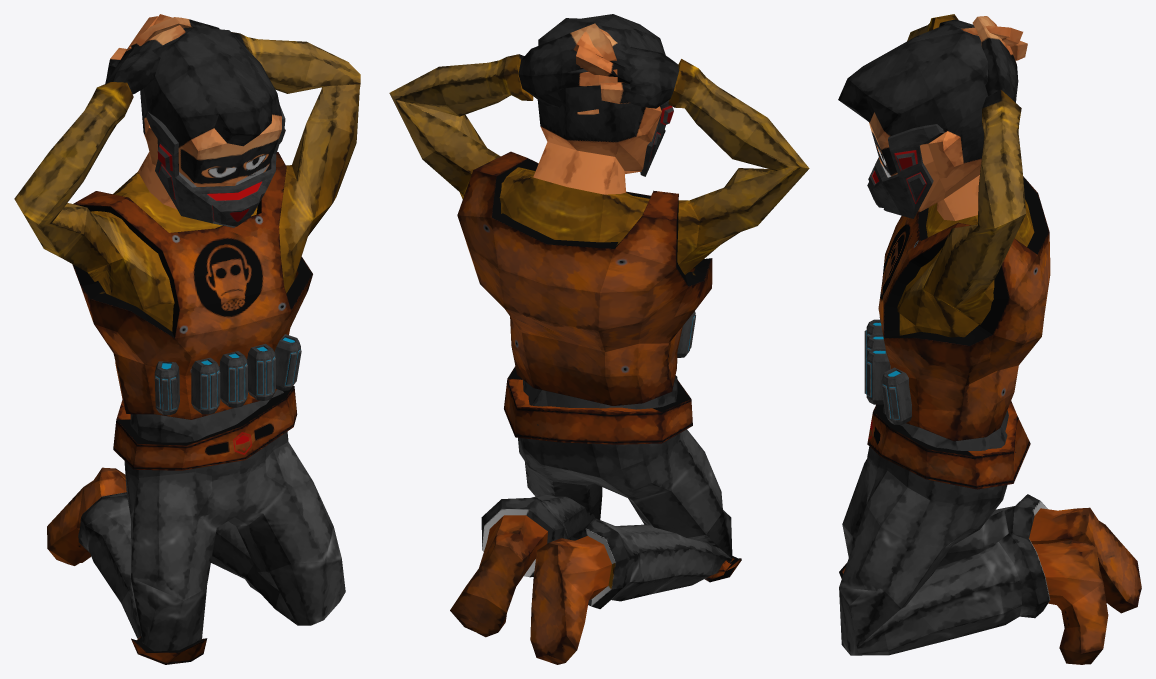
Rendered from RI_Terrorist_2V.fbx.
The picture shows the model from 3 angles, left to right: view 1: azimuth 30°, elevation 25°; view 2: azimuth 150°, elevation 25°; view 3: azimuth 270°, elevation 25°; orthographic projection. The views are drawn at different scales.
Visible parts, largest first — view 1: RI_Terrorist_2V; view 2: RI_Terrorist_2V; view 3: RI_Terrorist_2V.
Boxes of the visible parts, x1,y1,x2,y2 form: RI_Terrorist_2V: (14,14,360,664); RI_Terrorist_2V: (389,14,809,664); RI_Terrorist_2V: (838,14,1141,664).
Size of the model in its own units: 0.8903 by 1.35 by 0.6016.
